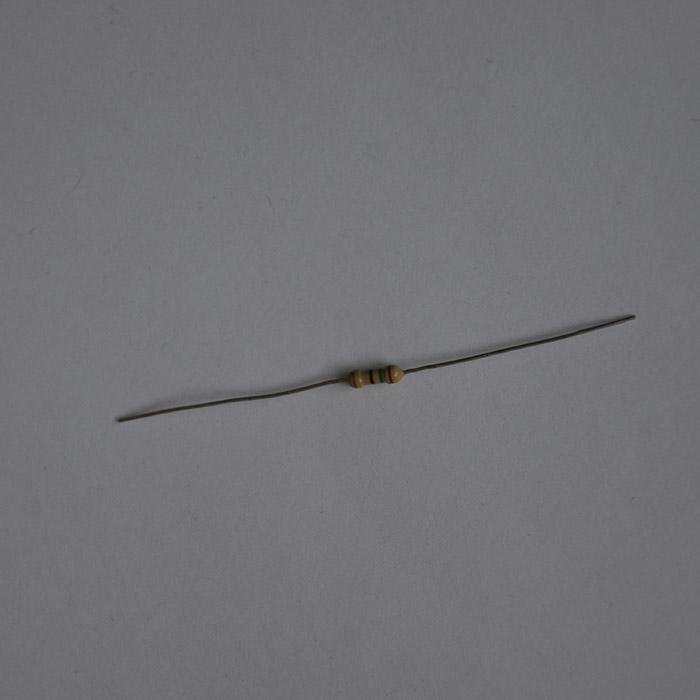resistor: (349, 364, 404, 388)
